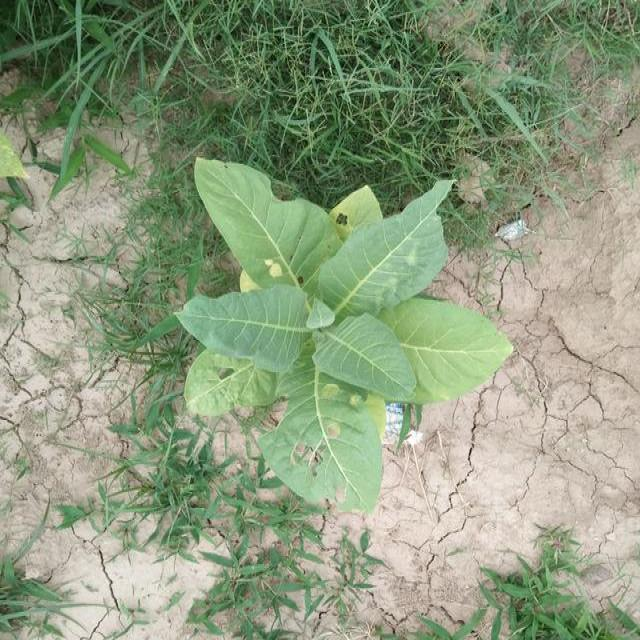crop: (178, 138, 512, 512)
